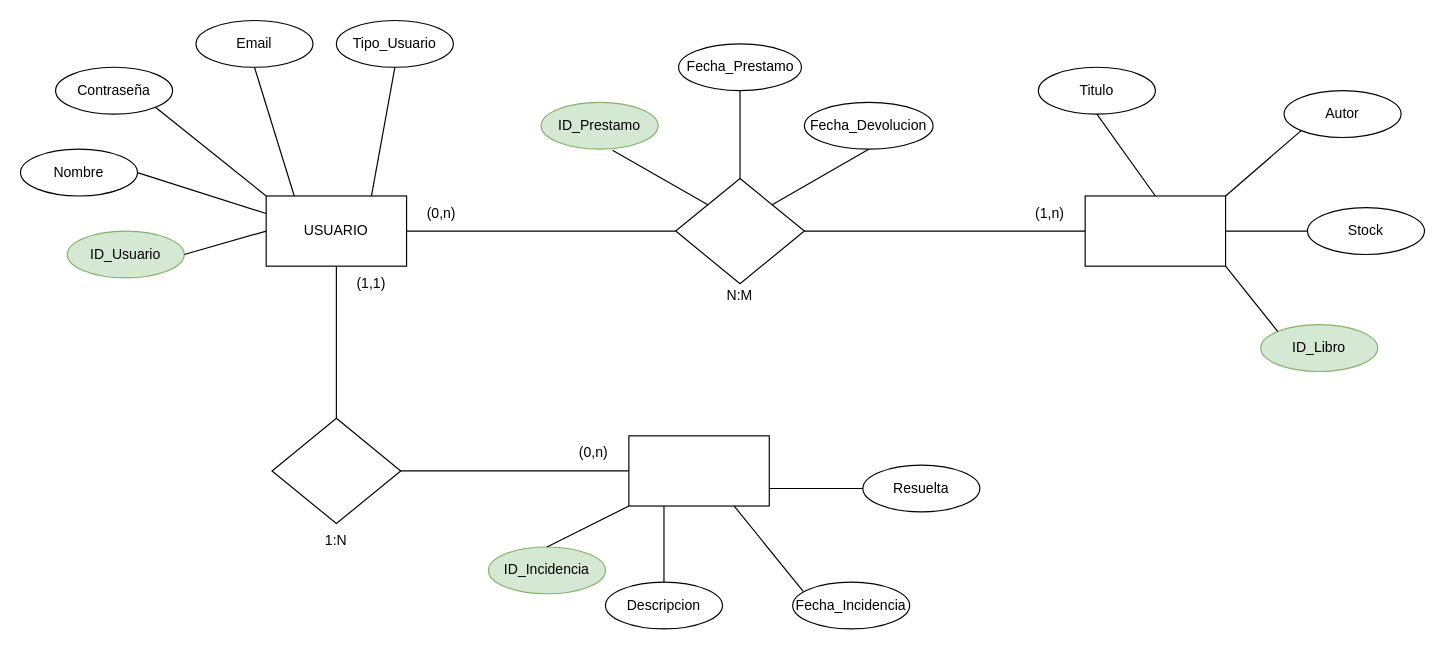
Image size: 1445x649. Some labels were removed from this diagram. Each missing label, with the box of its shape:
INCIDENCIA: (628, 435, 769, 506)
LIBRO: (1084, 195, 1226, 266)
Pide prestado: (675, 177, 804, 284)
Registra: (271, 417, 401, 524)
